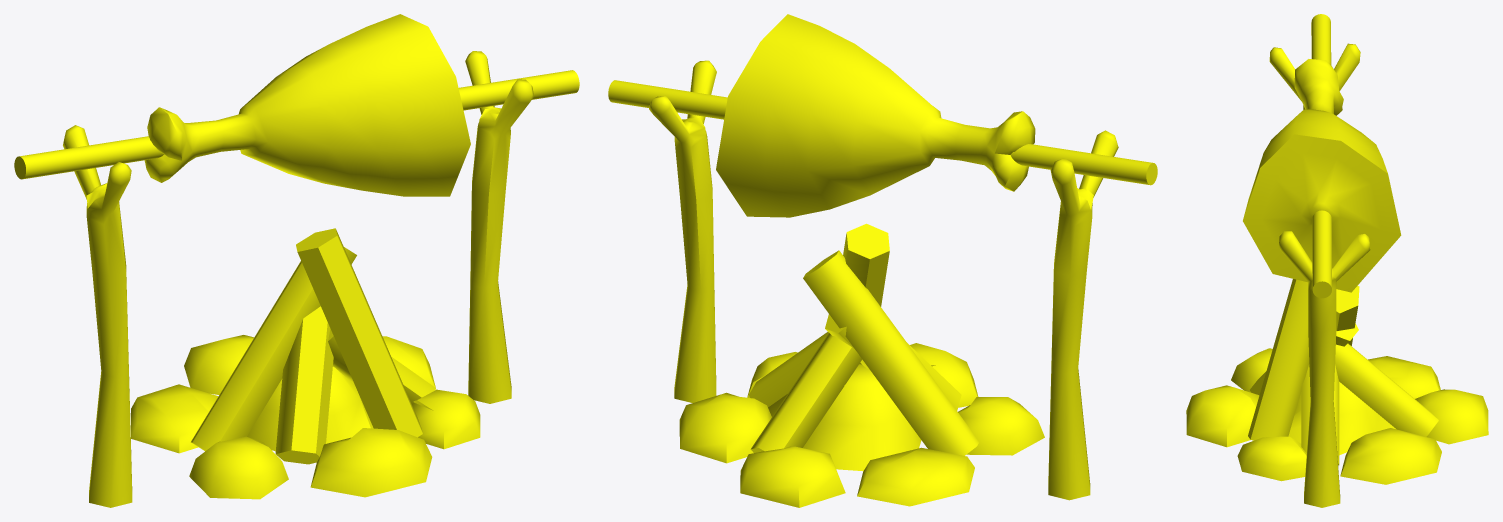
3 views of the same model, side by side, from view 1: azimuth 30°, elevation 25°; view 2: azimuth 150°, elevation 25°; view 3: azimuth 270°, elevation 25° (orthographic). The views are drawn at different scales.
Visible parts, largest first — view 1: bonfire_meat; view 2: bonfire_meat; view 3: bonfire_meat.
Boxes of the visible parts, x1,y1,x2,y2 form: bonfire_meat: [14, 14, 579, 507]; bonfire_meat: [608, 14, 1157, 507]; bonfire_meat: [1186, 14, 1488, 507].
Bounding box in the file's own units: 0.0163 × 0.0114 × 0.00917.
Materials: 1 (1 with a texture image).
